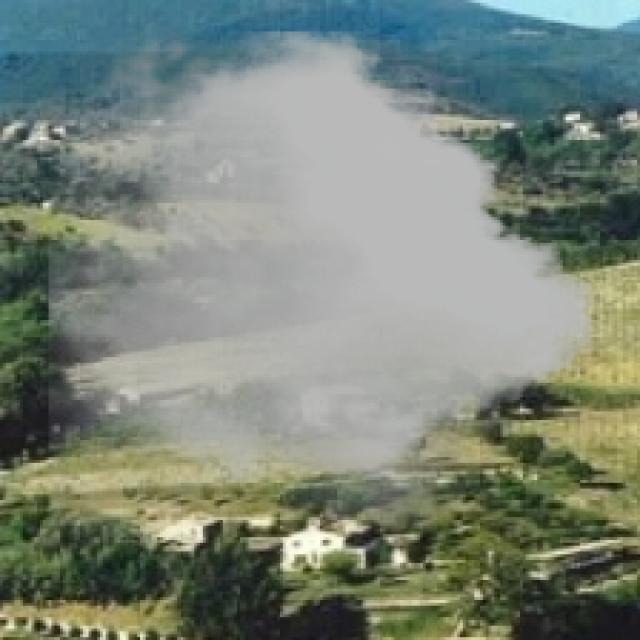Smoke: (48, 23, 594, 543)
